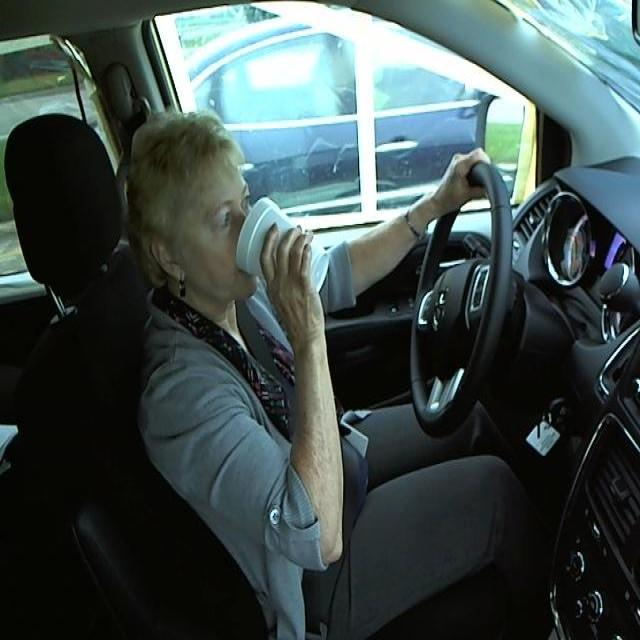Seatbelt: (235, 191, 330, 297)
